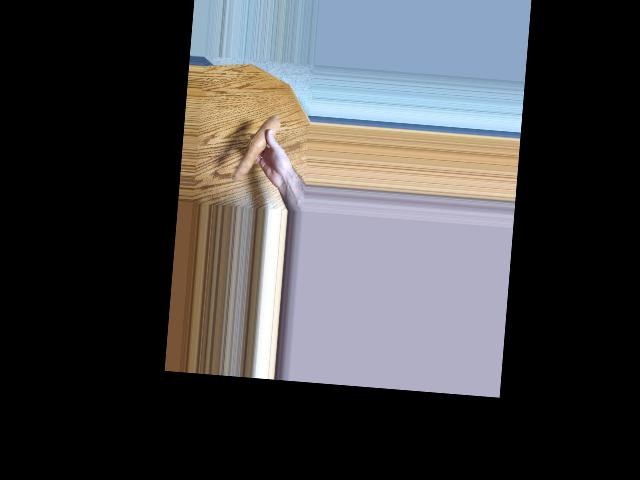sweet_potato: (237, 105, 279, 183)
